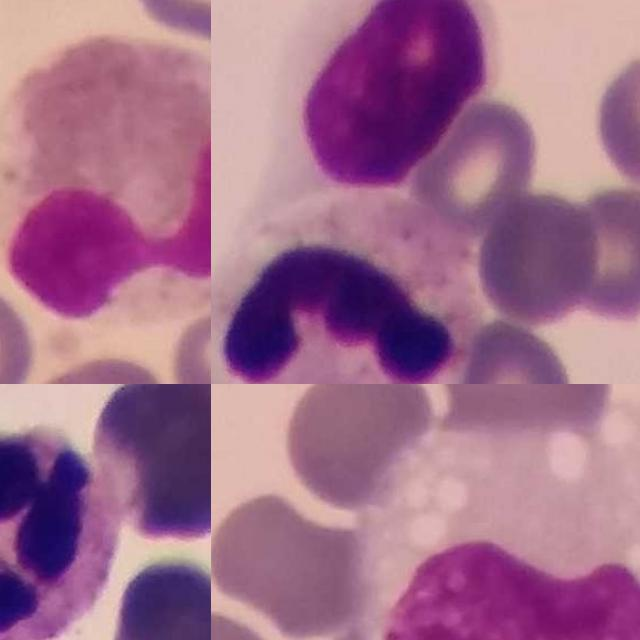Eosinophil: (0, 33, 211, 331)
Lymphocyte: (290, 0, 501, 204)
Monocyte: (370, 419, 640, 640)
Neutrophil: (211, 188, 476, 384), (0, 428, 115, 640)
